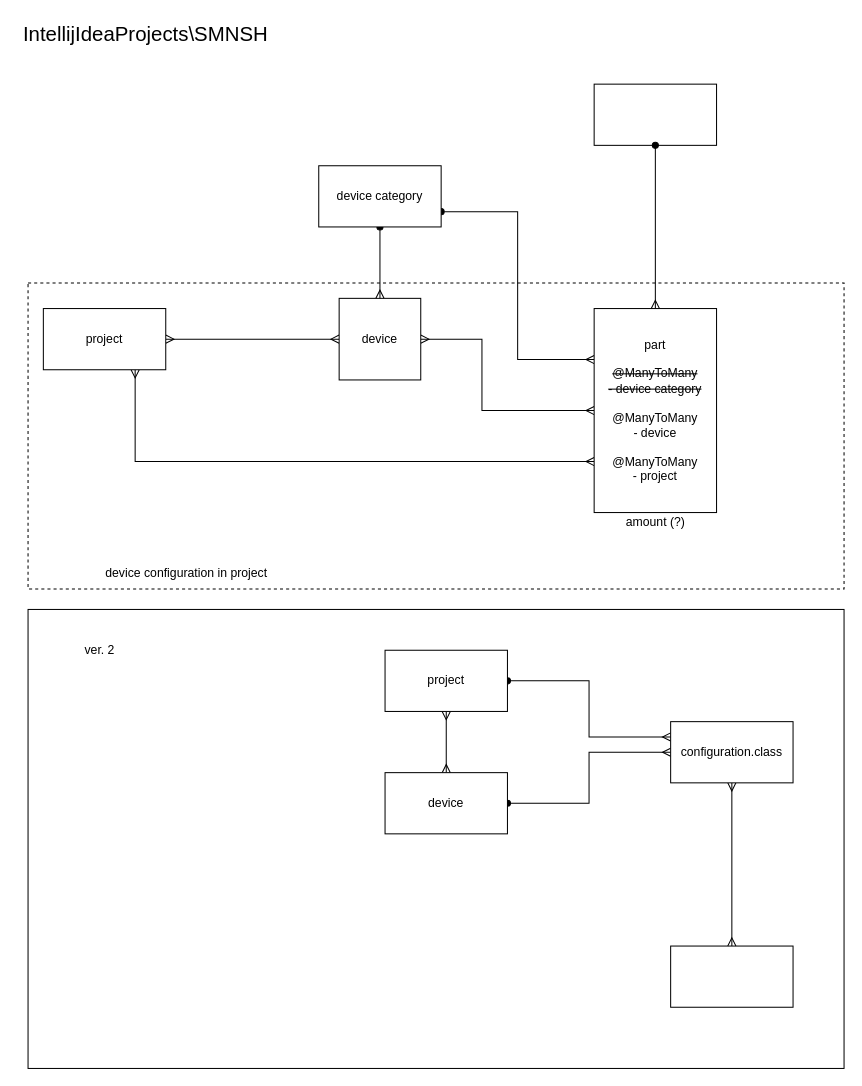
The diagram is 862 pixels wide and 1086 high, and some of its shapes have lost their labels. Here are the shapes that lost their labels. From the top down, the box of each, then its label:
(593, 83, 717, 145): part category @ManyToMany - device category
(670, 945, 793, 1007): part
